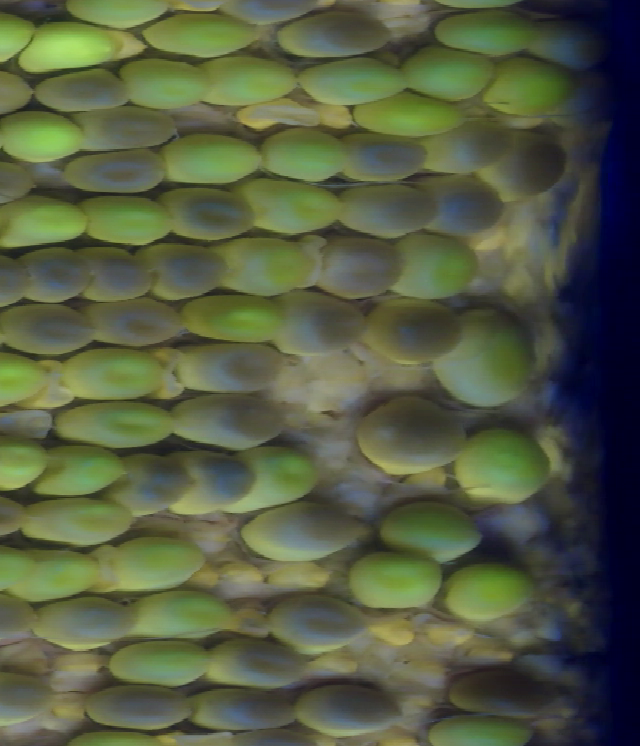fluorescent: (438, 308, 540, 406), (456, 428, 555, 506), (391, 231, 477, 304), (247, 175, 341, 239), (17, 499, 132, 551), (381, 501, 481, 559), (220, 234, 317, 292), (351, 552, 443, 613), (480, 56, 569, 117), (62, 346, 157, 403), (202, 52, 297, 108), (296, 57, 408, 103), (56, 401, 173, 445), (165, 133, 260, 187), (107, 639, 211, 688), (121, 57, 209, 114), (140, 12, 256, 55), (22, 20, 119, 71), (182, 291, 279, 342), (131, 587, 229, 637), (0, 197, 93, 249), (37, 445, 128, 498), (403, 47, 494, 100), (442, 564, 536, 615), (234, 450, 320, 505), (114, 537, 203, 590), (353, 95, 465, 137), (20, 547, 100, 604), (259, 130, 348, 181), (438, 10, 531, 58), (0, 109, 83, 162), (426, 715, 535, 746), (0, 437, 54, 495), (0, 354, 42, 408), (0, 544, 34, 593), (0, 14, 31, 65)
nonfluorescent: (361, 395, 465, 469), (168, 393, 287, 452), (242, 503, 365, 560), (309, 234, 401, 302), (289, 682, 398, 737), (278, 294, 373, 357), (268, 594, 370, 652), (369, 300, 464, 360), (452, 667, 559, 720), (336, 182, 434, 239), (35, 594, 132, 651), (168, 183, 255, 246), (278, 7, 392, 55), (481, 133, 564, 197), (189, 686, 297, 735), (207, 634, 302, 689), (425, 174, 504, 240), (175, 344, 280, 393), (87, 685, 198, 731), (0, 302, 93, 355), (110, 457, 190, 518), (32, 65, 132, 113), (428, 120, 505, 178), (180, 454, 251, 515), (79, 109, 182, 151), (339, 133, 427, 182), (62, 153, 162, 195), (95, 298, 183, 344), (28, 248, 90, 307), (529, 21, 598, 71), (89, 249, 152, 300), (479, 506, 550, 549), (0, 675, 55, 728), (0, 593, 37, 642), (0, 252, 31, 308), (0, 67, 31, 116), (0, 160, 32, 204), (559, 720, 561, 746)
